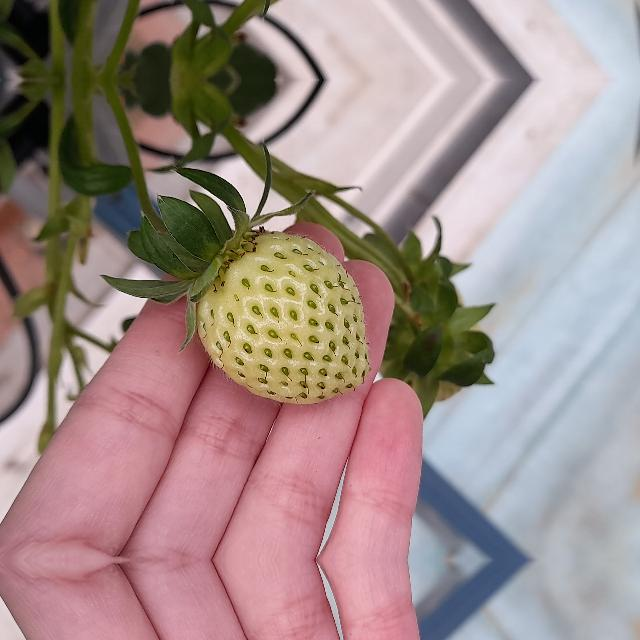Health_25: (196, 230, 370, 404)
